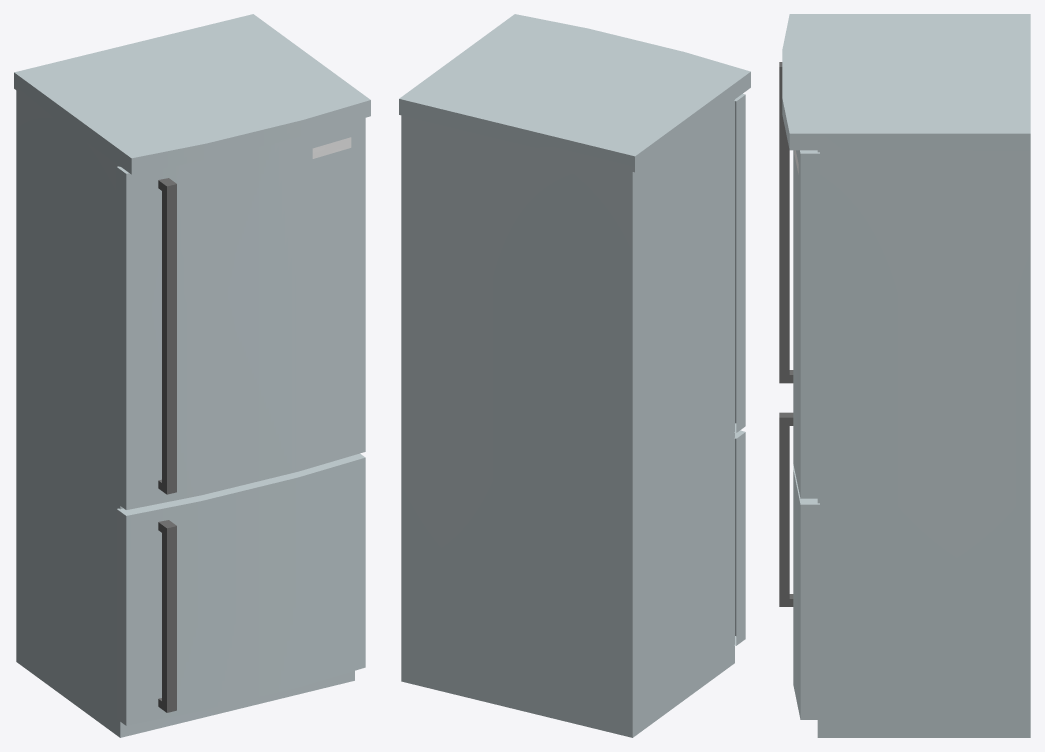
Rendered from fridge_01.glb.
3 views of the same model, side by side, from view 1: azimuth 30°, elevation 25°; view 2: azimuth 150°, elevation 25°; view 3: azimuth 270°, elevation 25° (orthographic). The views are drawn at different scales.
Visible parts, largest first — view 1: fridge_001; view 2: fridge_001; view 3: fridge_001.
Boxes of the visible parts, box(x1,y1,x2,y2) form: fridge_001: box(14, 14, 370, 737); fridge_001: box(399, 14, 750, 737); fridge_001: box(779, 14, 1030, 737).
Size of the model in its own units: 1.38 by 3.26 by 1.23.
Materials: 1 (1 with a texture image).
